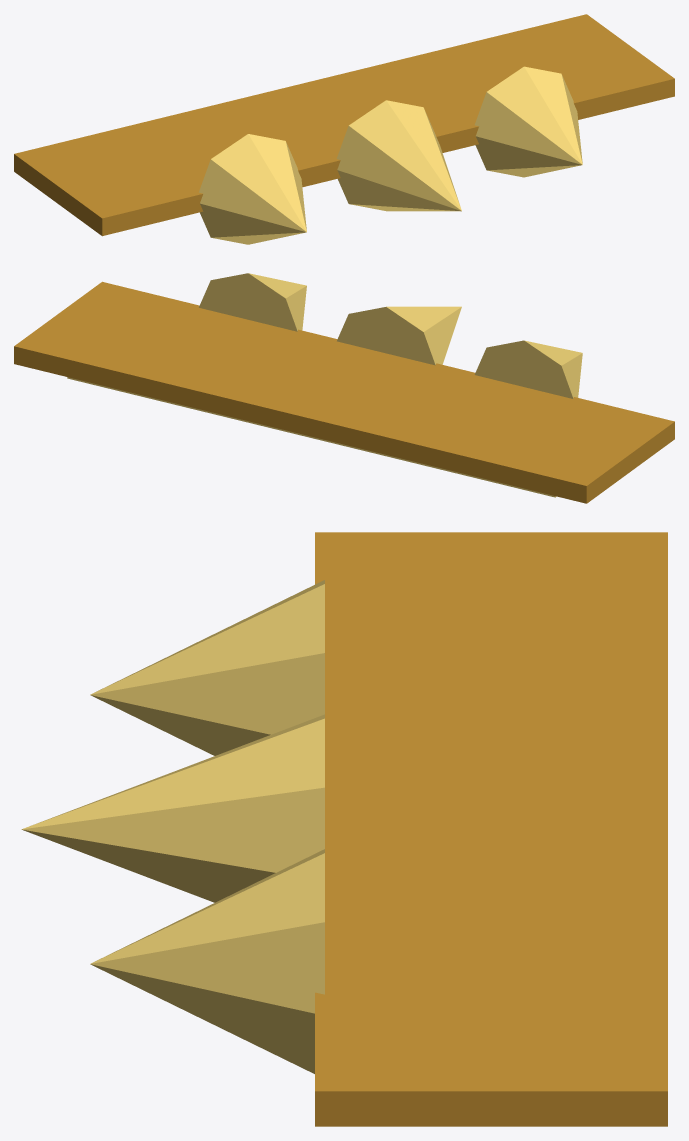
File: decoration_okey.glb
3 views of the same model, one above another, from view 1: azimuth 30°, elevation 25°; view 2: azimuth 150°, elevation 25°; view 3: azimuth 270°, elevation 25° (orthographic). The views are drawn at different scales.
Parts seen in each view (by area): view 1: logo_plate, crown_peak_1, crown_peak_2, crown_peak_0; view 2: logo_plate, crown_peak_1, crown_peak_0, crown_peak_2, logo_bar; view 3: logo_plate, crown_peak_1, crown_peak_2, crown_peak_0.
Part boxes in pixels (left/top/right/bottom): logo_plate: left=14, top=14, right=674, bottom=236; crown_peak_1: left=336, top=100, right=461, bottom=211; crown_peak_2: left=474, top=66, right=582, bottom=177; crown_peak_0: left=199, top=134, right=306, bottom=244; logo_plate: left=14, top=281, right=674, bottom=503; crown_peak_1: left=337, top=306, right=461, bottom=365; crown_peak_0: left=474, top=340, right=582, bottom=398; crown_peak_2: left=199, top=273, right=306, bottom=331; logo_bar: left=67, top=377, right=556, bottom=497; logo_plate: left=315, top=532, right=667, bottom=1126; crown_peak_1: left=21, top=714, right=324, bottom=902; crown_peak_2: left=90, top=849, right=324, bottom=1073; crown_peak_0: left=90, top=580, right=324, bottom=755.
Bounding box in the file's own units: 2.7 × 0.5 × 1.32.
